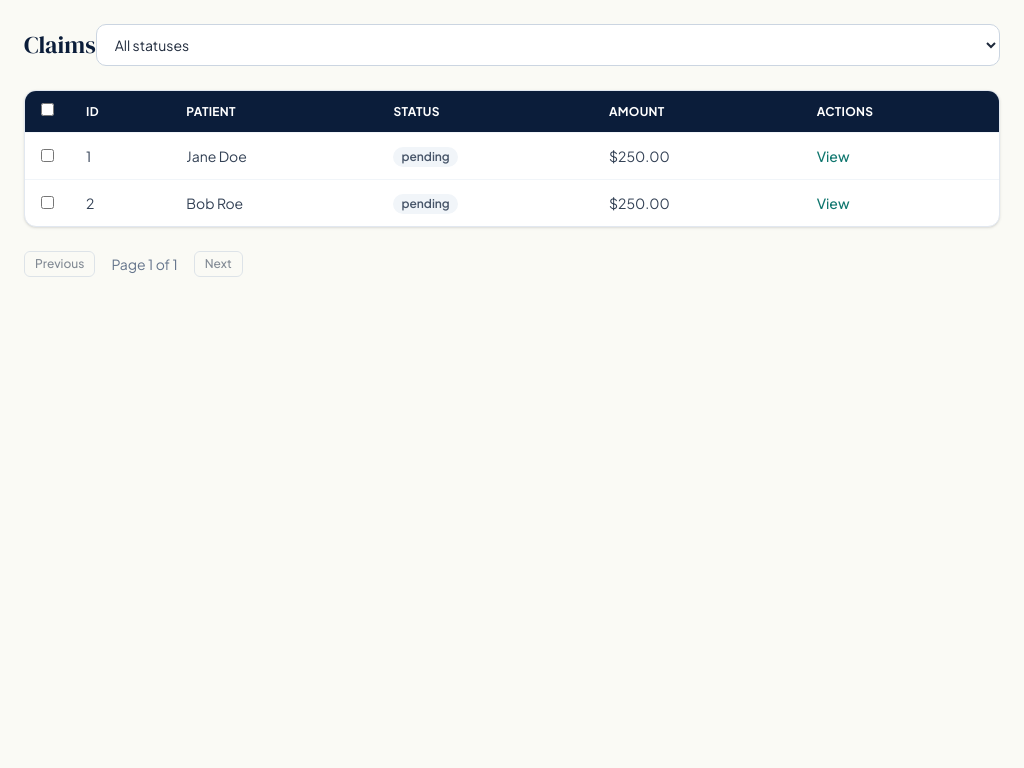
ClaimsList › batch void posts ids and shows summary with notFound annotation
The image size is (1024, 768).
Expected: the text "Bob Roe" is shown, [170,180,377,226]
Click the checkbox named "Select all rows" at (48, 110), box [41,103,54,116]
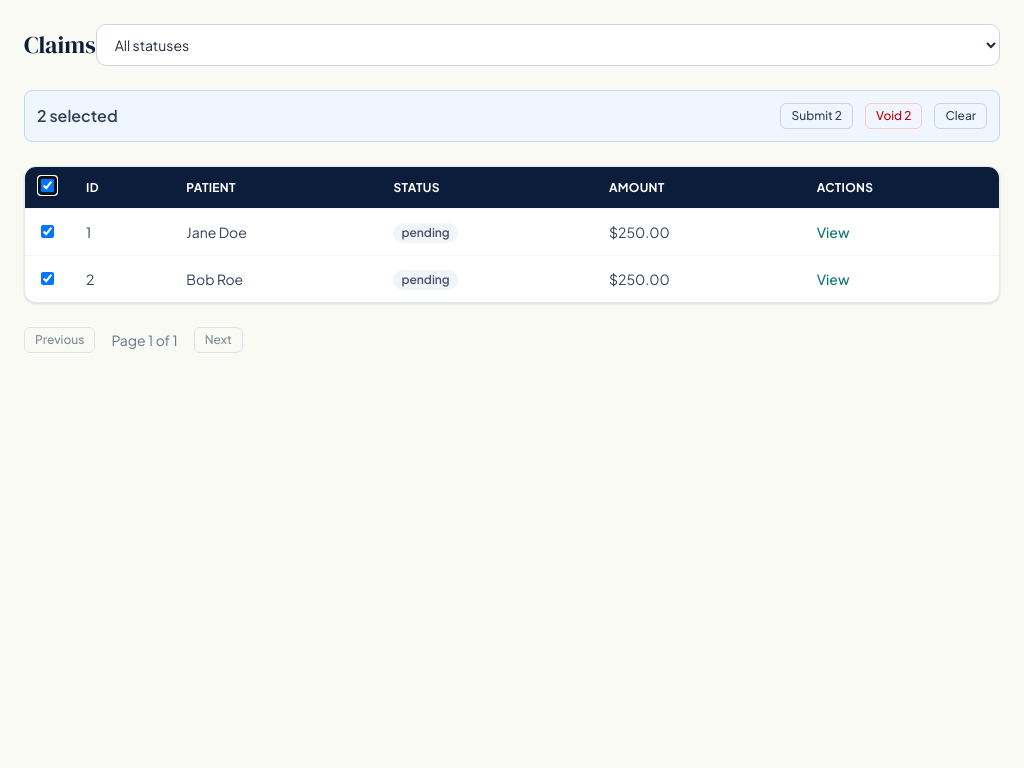
Click the button "Void 2" at (894, 116), box [865,103,922,129]
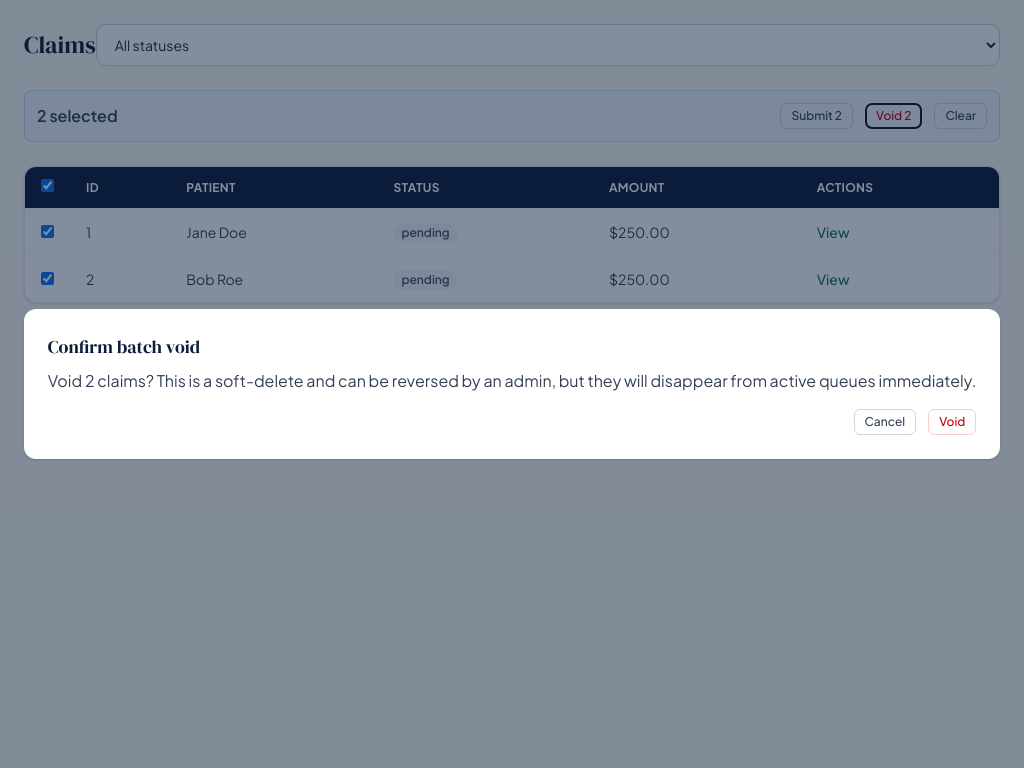
Click the button "Void" at (952, 422), box [928,409,976,435]
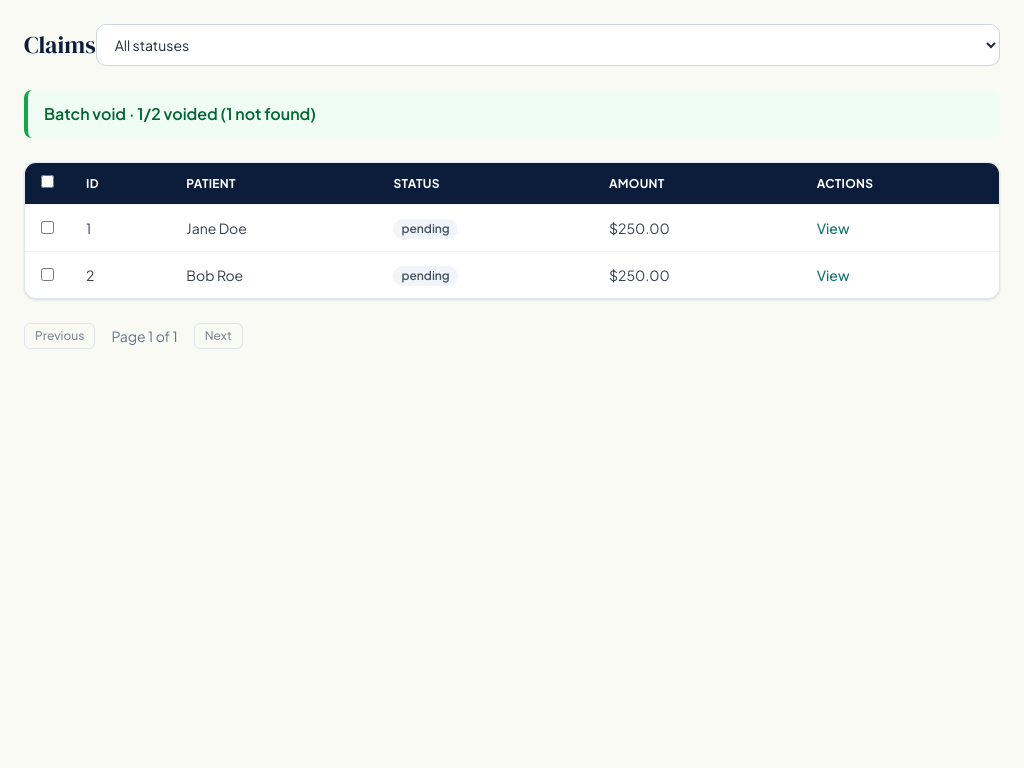
Result: the text "Batch void · 1/2 voided (1 not found)" is shown at [24,90,1000,138]
